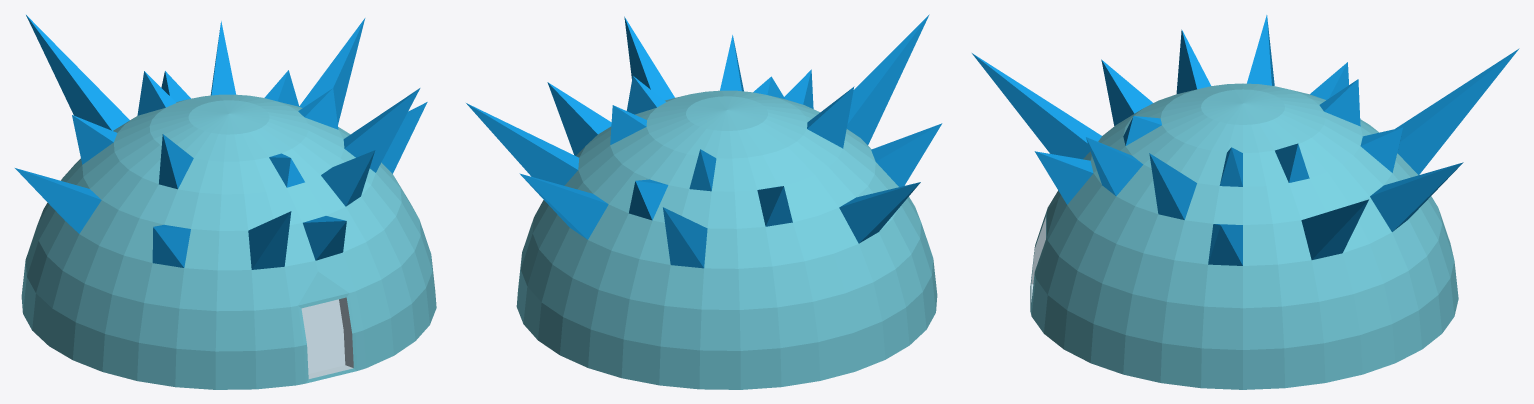
The model's file is EnemySpawnCamp.fbx.
3 renders of one model, left to right at view 1: azimuth 30°, elevation 25°; view 2: azimuth 150°, elevation 25°; view 3: azimuth 270°, elevation 25°, orthographic. The views are drawn at different scales.
Visible parts, largest first — view 1: EnemySpawnCamp; view 2: EnemySpawnCamp; view 3: EnemySpawnCamp.
Part boxes in pixels (x1,y1,x2,y2): EnemySpawnCamp: (15,15,436,389); EnemySpawnCamp: (466,14,942,389); EnemySpawnCamp: (972,15,1519,389).
Bounding box in the file's own units: 2.22 × 2.55 × 1.13.
